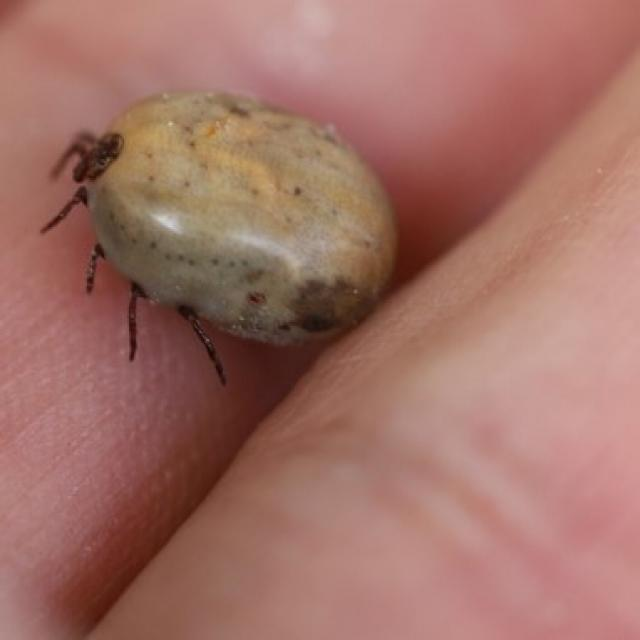Dermacentor Reticulatus-F-Fed: (39, 89, 400, 388)
